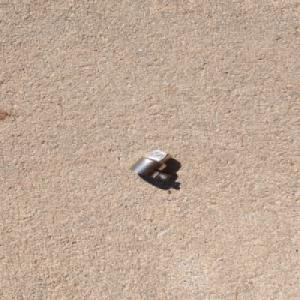MetalPart: (129, 148, 174, 181)
